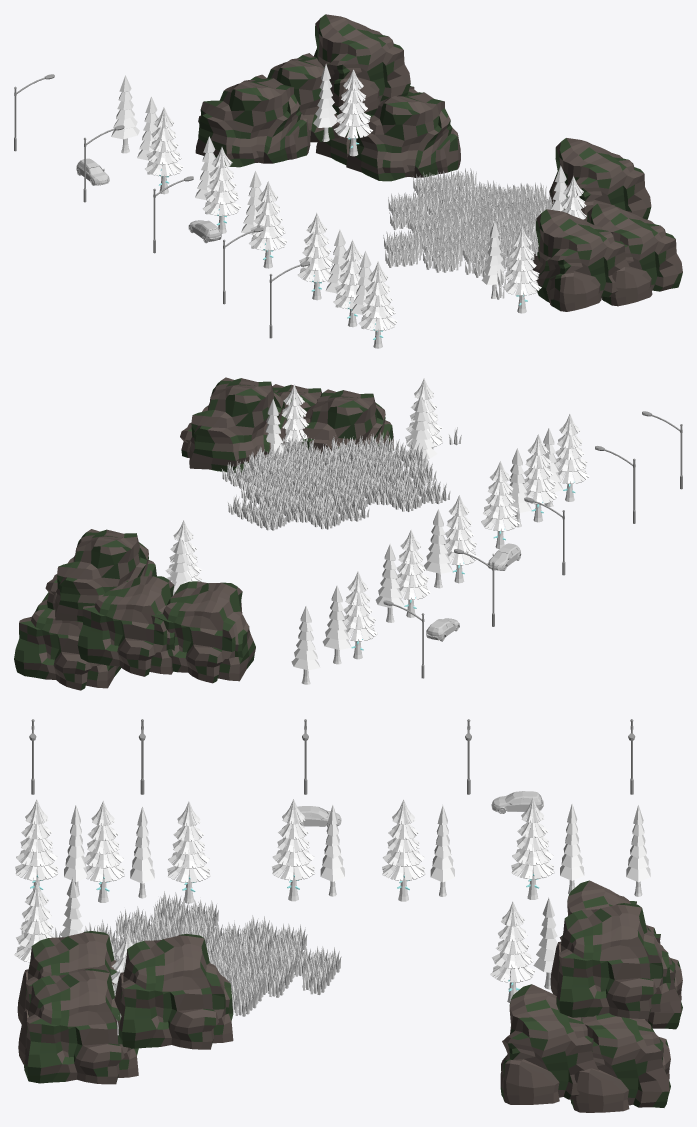
Rendered from environment.gltf.
3 renders of one model, top to bottom at view 1: azimuth 30°, elevation 25°; view 2: azimuth 150°, elevation 25°; view 3: azimuth 270°, elevation 25°, orthographic. The views are drawn at different scales.
Parts seen in each view (by area): view 1: Big Rock 3 (14), Big Rock 3 (8), Big Rock 3 (10), Big Rock 3 (15), Big Rock 3 (11), Big Rock 3 (13), Big Rock 3 (12), LPW_Tree_A1_6.5m_01 (32), LPW_Tree_A1_6.5m_01 (35), LPW_Tree_A1_6.5m_01 (36), LPW_Tree_A1_6.5m_01 (28), LPW_Tree_A1_6.5m_01 (27) (+14 smaller); view 2: Big Rock 3 (14), Big Rock 3 (12), Big Rock 3 (13), Big Rock 3 (15), Big Rock 3 (9), Big Rock 3 (10), LPW_Tree_A1_6.5m_01 (30), LPW_Tree_A1_6.5m_01 (32), LPW_Tree_A1_6.5m_01 (27), LPW_Tree_A1_6.5m_01 (28), LPW_Tree_A1_6.5m_01 (31), LPW_Tree_A1_6.5m_01 (29) (+15 smaller); view 3: Big Rock 3 (15), Big Rock 3 (13), Big Rock 3 (11), Big Rock 3 (8), Big Rock 3 (9), Big Rock 3 (10), LPW_Tree_A1_6.5m_01 (28), LPW_Tree_A1_6.5m_01 (27), LPW_Tree_A1_6.5m_01 (30), LPW_Tree_A1_6.5m_01 (29), LPW_Tree_A1_6.5m_01 (31), LPW_Tree_A1_6.5m_01 (35) (+14 smaller).
Boxes of the visible parts, <box> form: Big Rock 3 (14): <box>195,74,310,167</box>; Big Rock 3 (8): <box>346,89,460,181</box>; Big Rock 3 (10): <box>531,209,629,311</box>; Big Rock 3 (15): <box>313,14,410,114</box>; Big Rock 3 (11): <box>587,203,682,306</box>; Big Rock 3 (13): <box>549,138,651,221</box>; Big Rock 3 (12): <box>267,53,349,142</box>; LPW_Tree_A1_6.5m_01 (32): <box>358,261,397,348</box>; LPW_Tree_A1_6.5m_01 (35): <box>334,69,372,156</box>; LPW_Tree_A1_6.5m_01 (36): <box>502,226,541,313</box>; LPW_Tree_A1_6.5m_01 (28): <box>202,147,241,233</box>; LPW_Tree_A1_6.5m_01 (27): <box>145,107,183,194</box>; Big Rock 3 (14): <box>151,581,255,683</box>; Big Rock 3 (12): <box>77,576,174,676</box>; Big Rock 3 (13): <box>180,377,286,472</box>; Big Rock 3 (15): <box>45,529,156,622</box>; Big Rock 3 (9): <box>14,592,121,690</box>; Big Rock 3 (10): <box>300,389,393,470</box>; LPW_Tree_A1_6.5m_01 (30): <box>481,461,520,548</box>; LPW_Tree_A1_6.5m_01 (32): <box>554,414,589,501</box>; LPW_Tree_A1_6.5m_01 (27): <box>342,571,377,659</box>; LPW_Tree_A1_6.5m_01 (28): <box>396,529,430,617</box>; LPW_Tree_A1_6.5m_01 (31): <box>523,434,557,522</box>; LPW_Tree_A1_6.5m_01 (29): <box>444,495,479,583</box>; Big Rock 3 (15): <box>550,903,670,1018</box>; Big Rock 3 (13): <box>114,934,233,1049</box>; Big Rock 3 (11): <box>18,968,138,1084</box>; Big Rock 3 (8): <box>500,984,598,1104</box>; Big Rock 3 (9): <box>570,1013,670,1112</box>; Big Rock 3 (10): <box>17,931,116,1024</box>; LPW_Tree_A1_6.5m_01 (28): <box>382,799,425,901</box>; LPW_Tree_A1_6.5m_01 (27): <box>511,798,554,899</box>; LPW_Tree_A1_6.5m_01 (30): <box>167,801,210,903</box>; LPW_Tree_A1_6.5m_01 (29): <box>272,799,315,901</box>; LPW_Tree_A1_6.5m_01 (31): <box>83,801,124,902</box>; LPW_Tree_A1_6.5m_01 (35): <box>490,901,535,1002</box>.
Size of the model in its own units: 0.5234 by 0.1756 by 0.6151.
7 materials, 1 textured.
